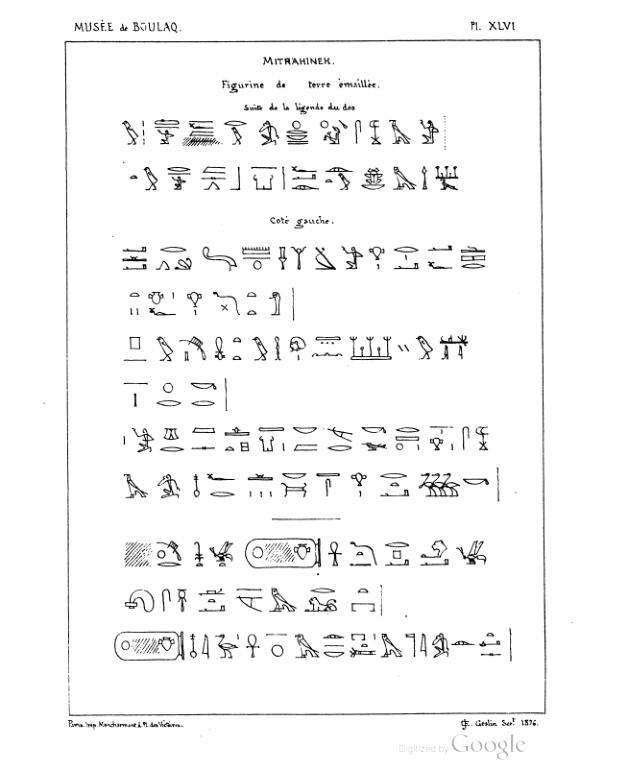circle: (243, 535, 327, 573), (110, 628, 189, 666)
